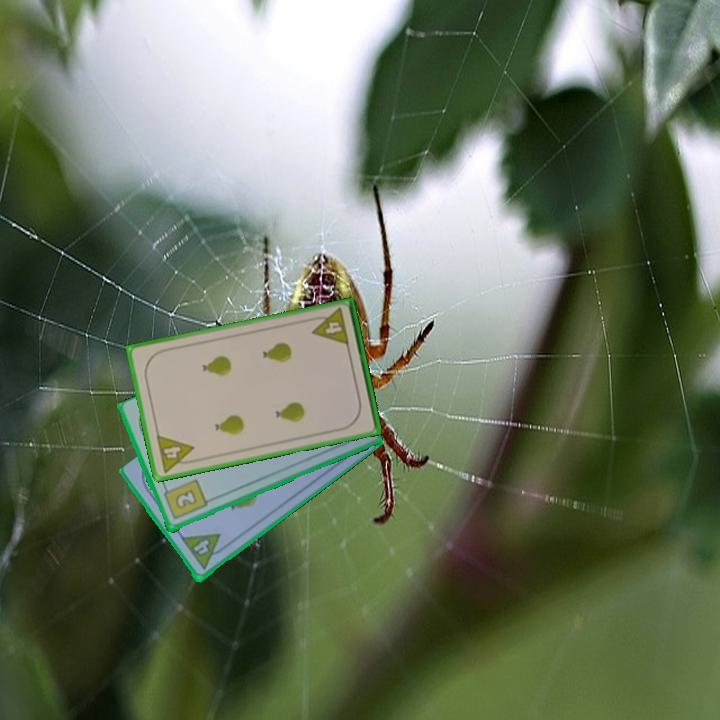2b: (160, 476, 210, 523)
4p: (178, 530, 231, 573), (153, 431, 199, 475), (307, 305, 352, 349)
